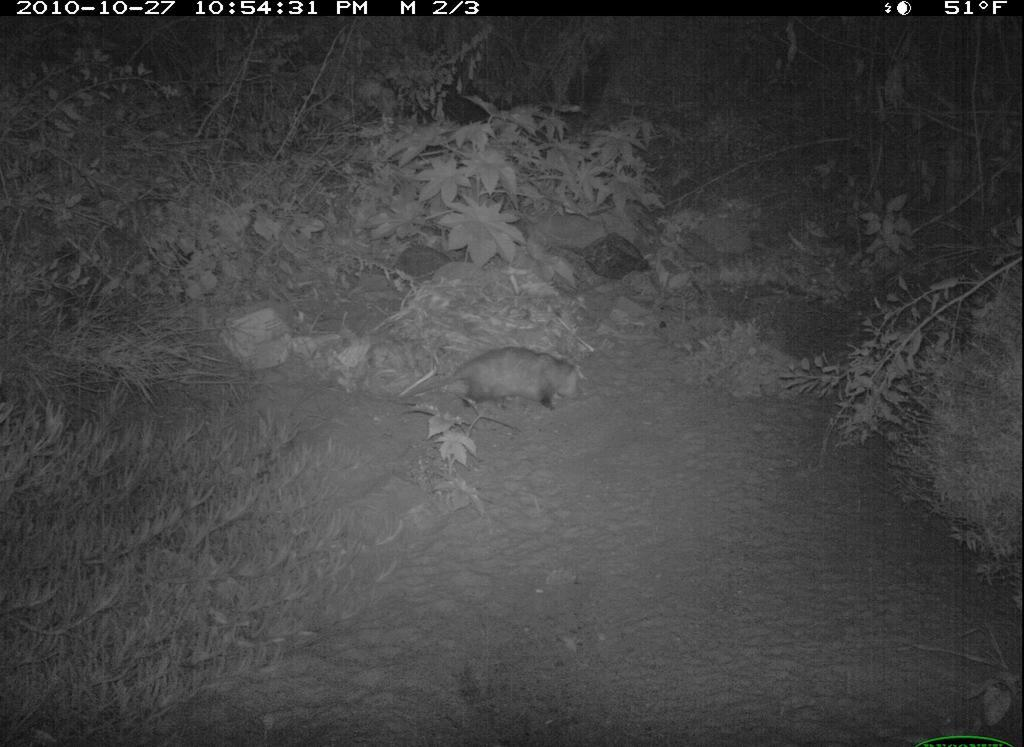opossum: (402, 344, 592, 422)
